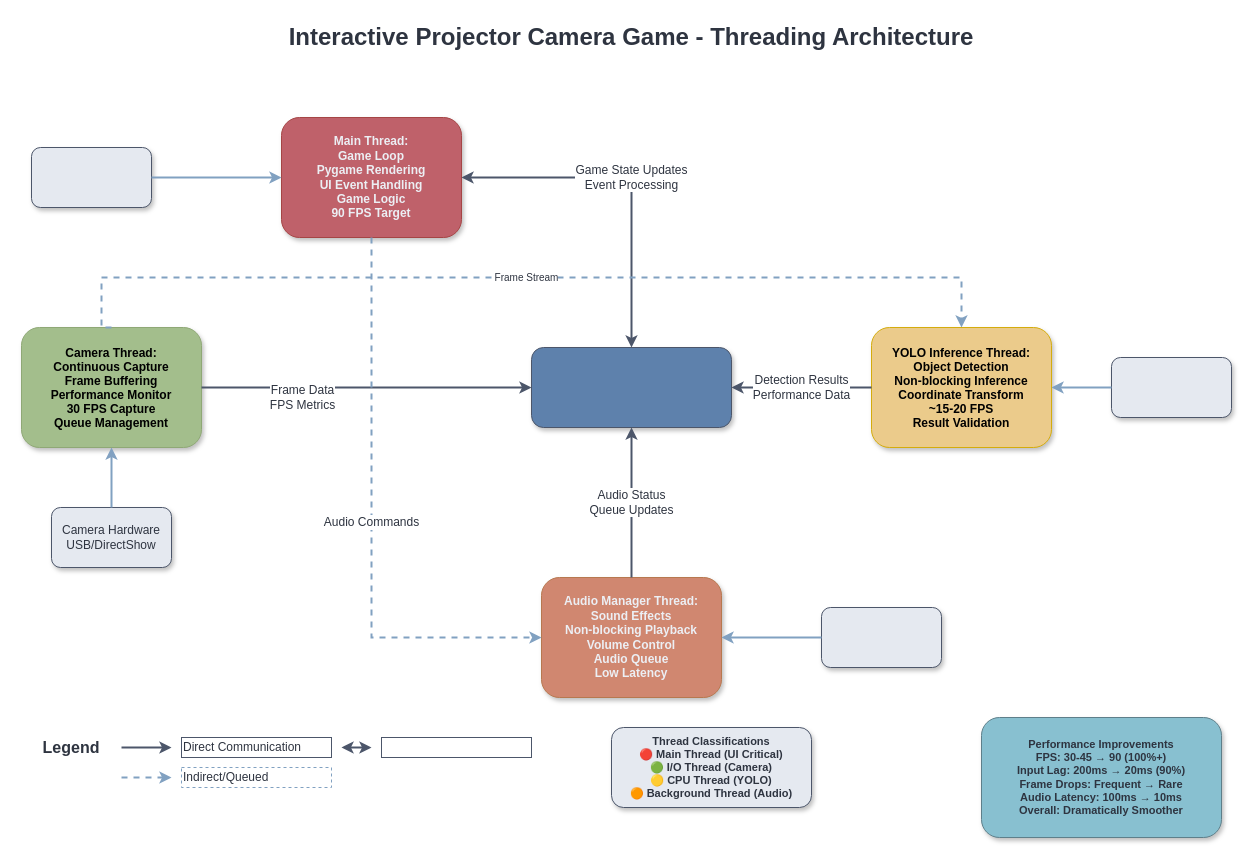
Some shapes in this 1255 by 862 pixel diagram are drawn without their labels. Each missing label, with the centre of its shape:
"Audio System Pygame Mixer" belongs at point 882,638.
"Bidirectional" belongs at point 456,747.
"Pygame Display External Monitor" belongs at point 92,178.
"ThreadSafeGameState (Central Coordination Hub)" belongs at point 632,388.
"YOLO Model best.onnx" belongs at point 1172,388.
